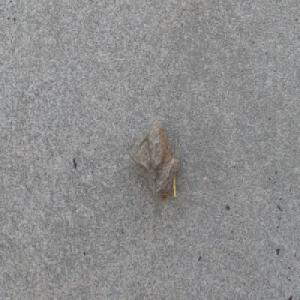Rock: (129, 117, 178, 201)
